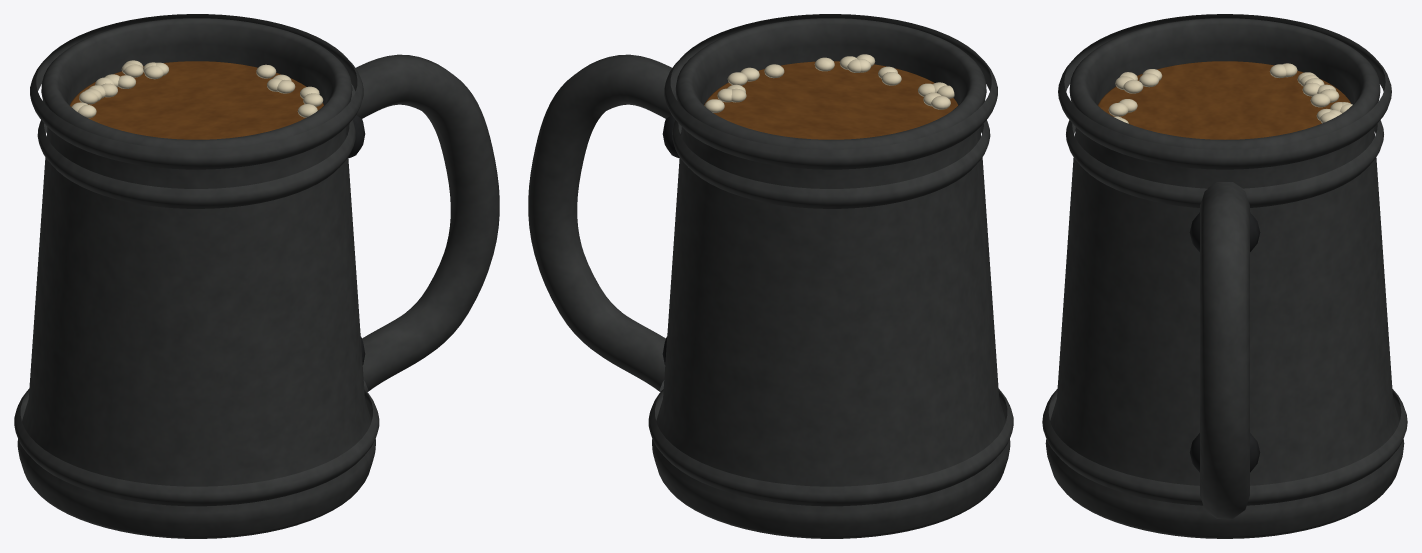
Rendered from tavern-mug.glb.
3 renders of one model, left to right at view 1: azimuth 30°, elevation 25°; view 2: azimuth 150°, elevation 25°; view 3: azimuth 270°, elevation 25°, orthographic.
Parts seen in each view (by area): view 1: Metal mug | hollow pewter tankard; view 2: Metal mug | hollow pewter tankard; view 3: Metal mug | hollow pewter tankard.
Boxes of the visible parts, x1,y1,x2,y2 form: Metal mug | hollow pewter tankard: (14, 14, 499, 538); Metal mug | hollow pewter tankard: (528, 14, 1013, 538); Metal mug | hollow pewter tankard: (1042, 14, 1407, 538).
Bounding box in the file's own units: 0.6737 × 0.5469 × 0.4662.
Materials: 1 (1 with a texture image).
